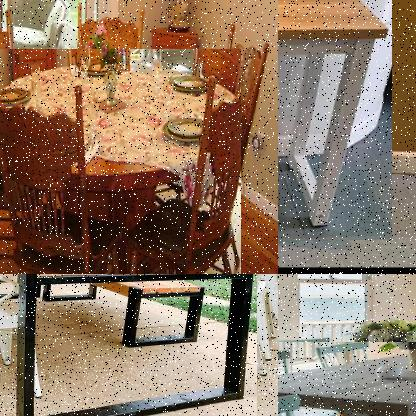table: (0, 49, 241, 273), (0, 274, 257, 415), (278, 0, 392, 242), (278, 342, 415, 415)
